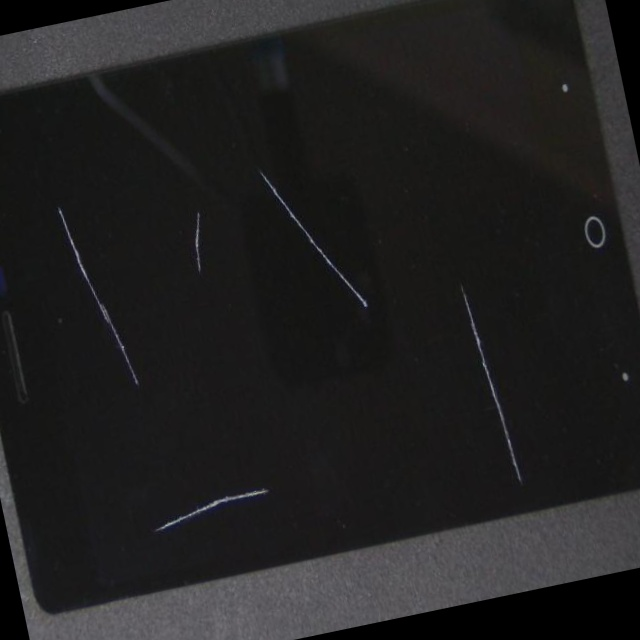scratch: (148, 137, 611, 532), (270, 305, 640, 634), (134, 227, 411, 640), (31, 234, 267, 584), (56, 29, 324, 329)
